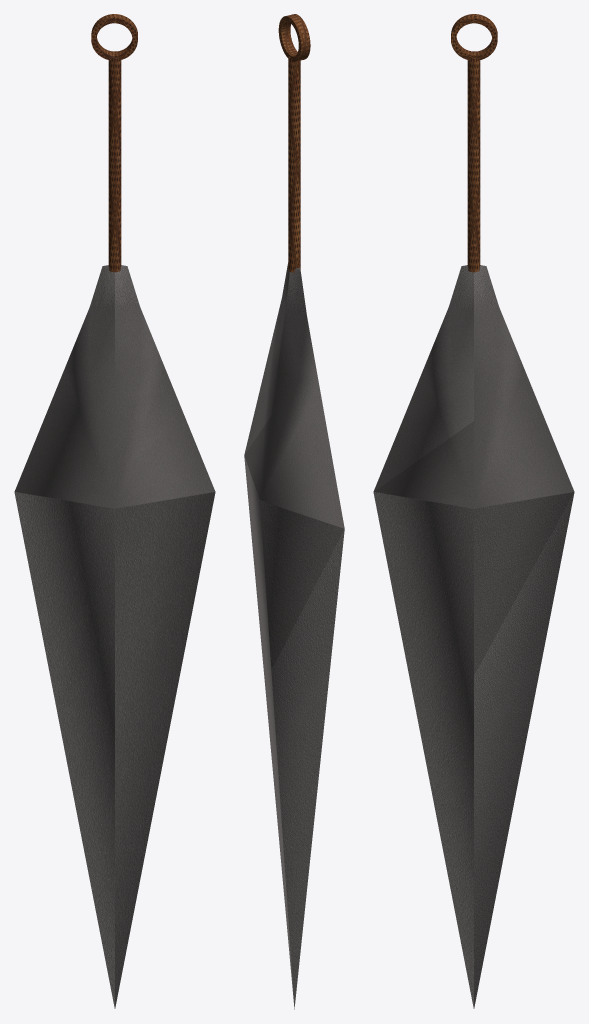
Rendered from Kunai.obj.
3 renders of one model, left to right at view 1: azimuth 90°, elevation 25°; view 2: azimuth 210°, elevation 25°; view 3: azimuth 270°, elevation 25°, orthographic.
Visible parts, largest first — view 1: Cone001, Cone002, Cylinder001, Tube001; view 2: Cone001, Cone002, Cylinder001, Tube001; view 3: Cone001, Cone002, Cylinder001, Tube001.
Boxes of the visible parts, x1,y1,x2,y2 form: Cone001: (14, 491, 215, 1008); Cone002: (14, 265, 215, 508); Cylinder001: (108, 57, 121, 272); Tube001: (91, 14, 137, 60); Cone001: (244, 456, 344, 1009); Cone002: (244, 262, 344, 528); Cylinder001: (288, 56, 300, 272); Tube001: (278, 14, 310, 61); Cone001: (373, 491, 574, 1008); Cone002: (373, 265, 574, 508); Cylinder001: (467, 57, 480, 272); Tube001: (451, 14, 497, 60).
Bounding box in the file's own units: 2.1 × 28.76 × 5.28.
